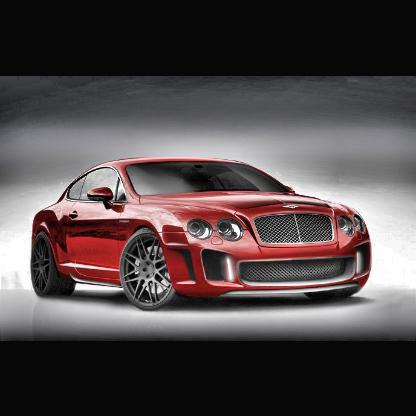Bentley Continental GT Coupe 2007: (29, 156, 376, 309)
